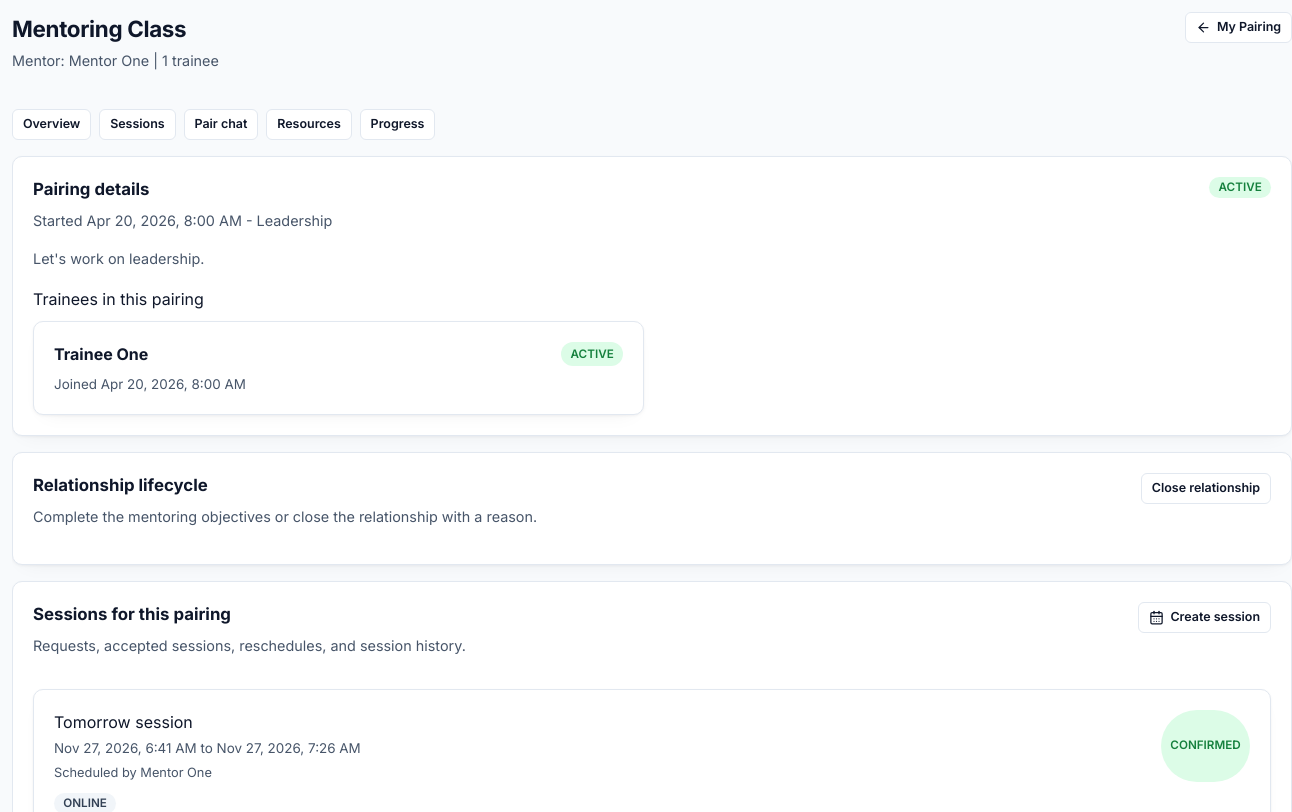
MentoringPairingDetailPage › hides the video join button until the scheduled local day
Click the tab "Sessions": (137, 125) top-left (99, 109), bottom-right (176, 140)
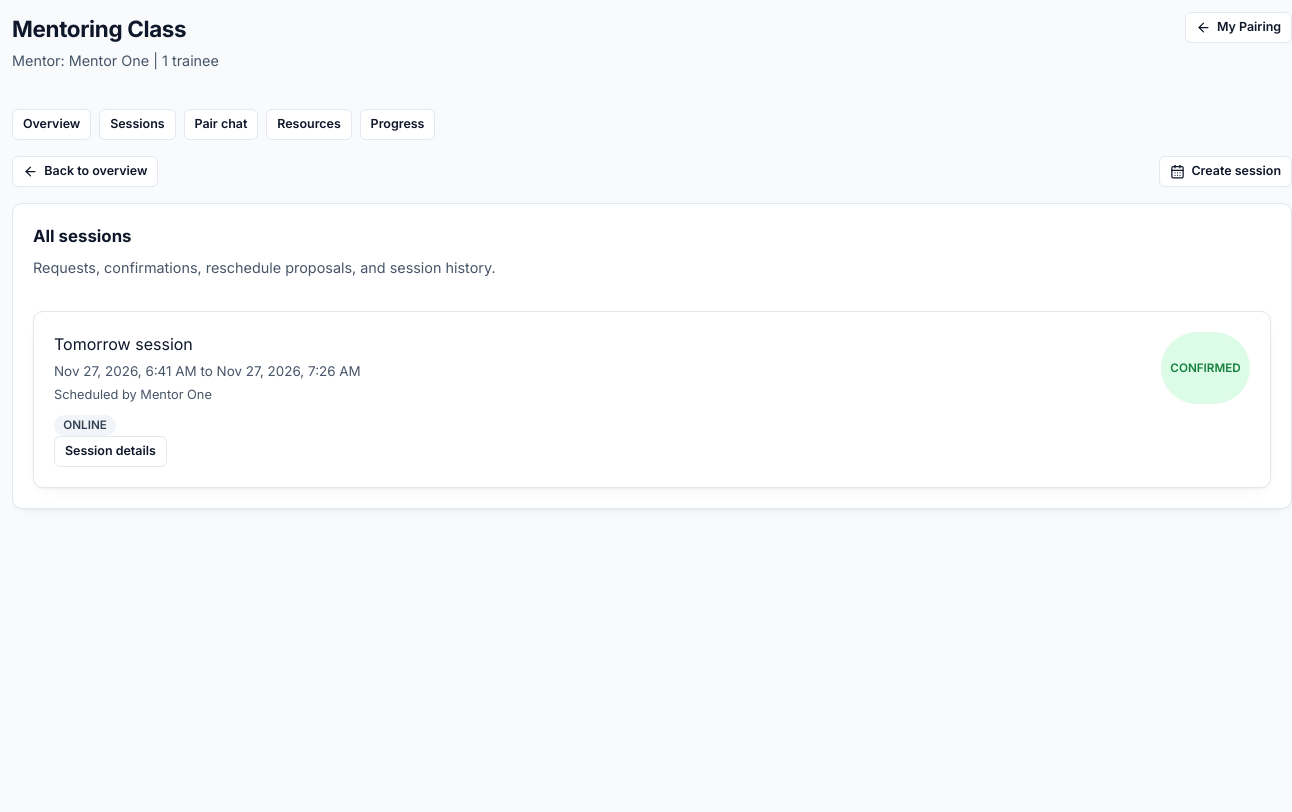
Expected: the heading "Tomorrow session" is shown, top-left (54, 334), bottom-right (193, 354)
Click the button "Session details": (110, 452) top-left (54, 436), bottom-right (167, 467)
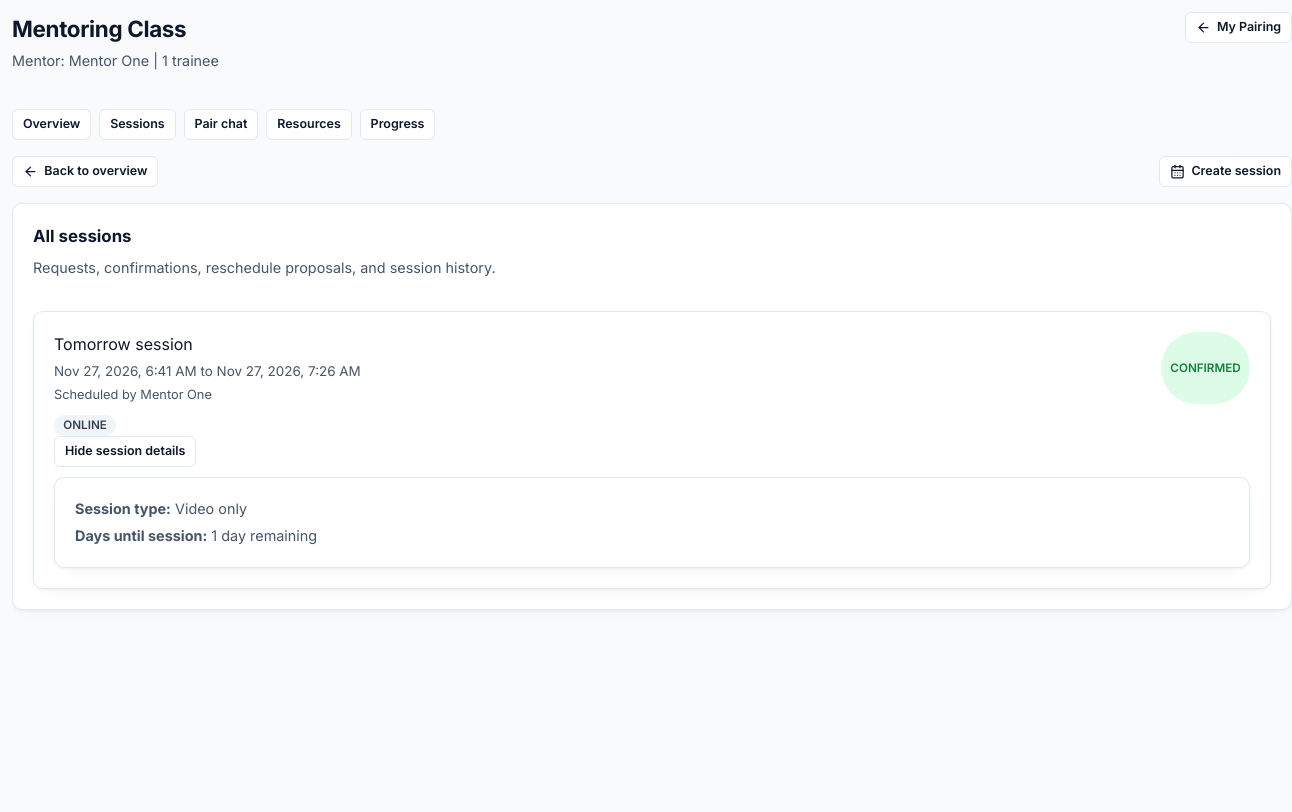
Expected: the text "Video only" is shown, top-left (175, 500), bottom-right (247, 517)
Expected: the text "1 day remaining" is shown, top-left (211, 527), bottom-right (317, 544)
